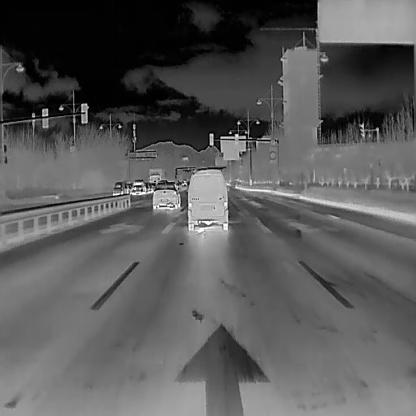car: (187, 166, 228, 230), (152, 180, 180, 208), (130, 180, 144, 192), (112, 180, 123, 194)
truck: (148, 168, 162, 184)
